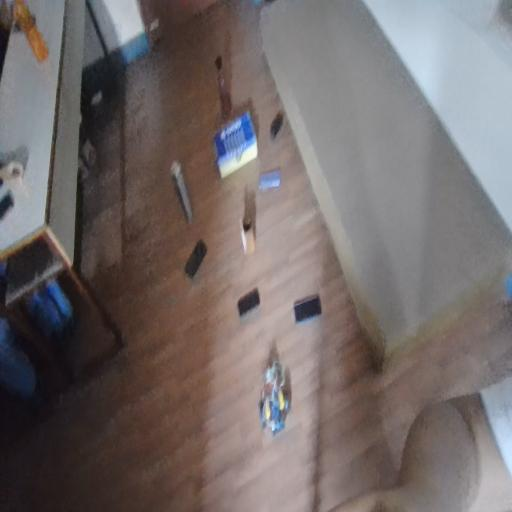Bottle: (211, 35, 238, 101)
car: (256, 363, 294, 442)
